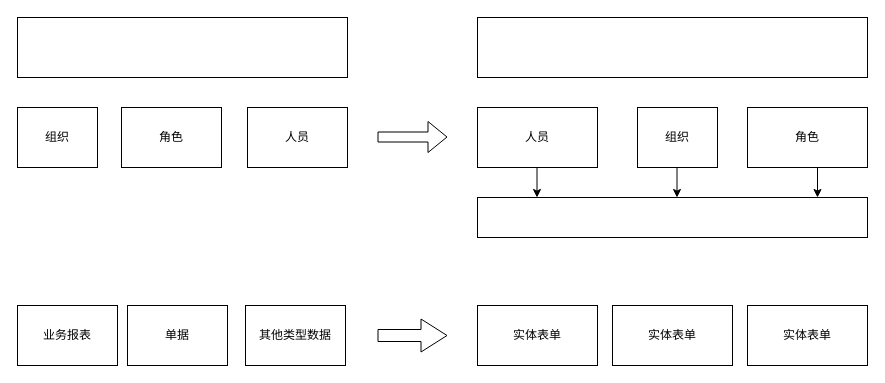
Image size: 885x383. Some labels were removed from this diagram. The centre of each missing label's shape, as x and y in pixels:
ChatBI: the point at 672,47
ERP: the point at 182,47
权限过滤: the point at 672,217
